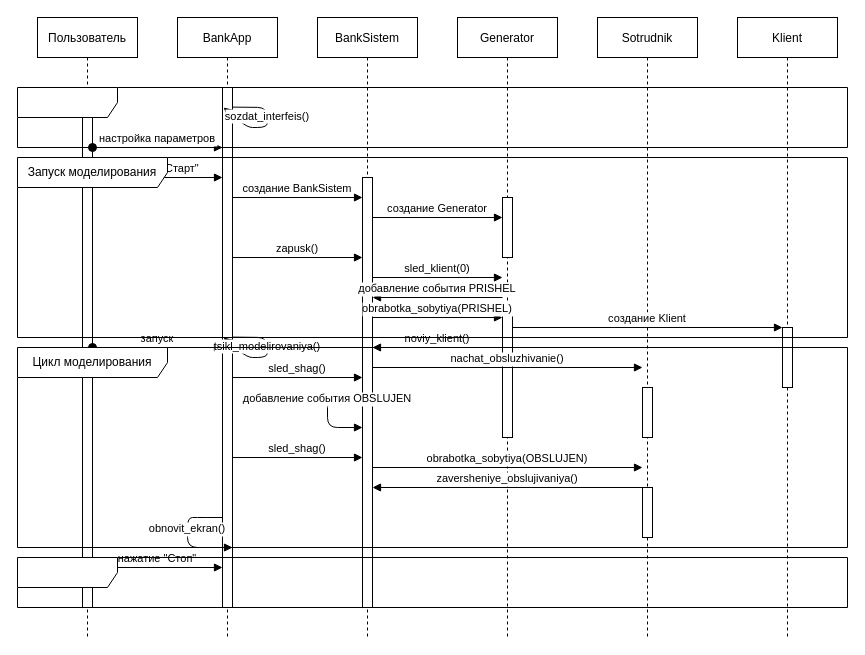
This 865x655 diagram has some shape labels left out. Each missing label, with the centre of its shape:
Завершение: pixel 432 582
Инициализация: pixel 432 117
